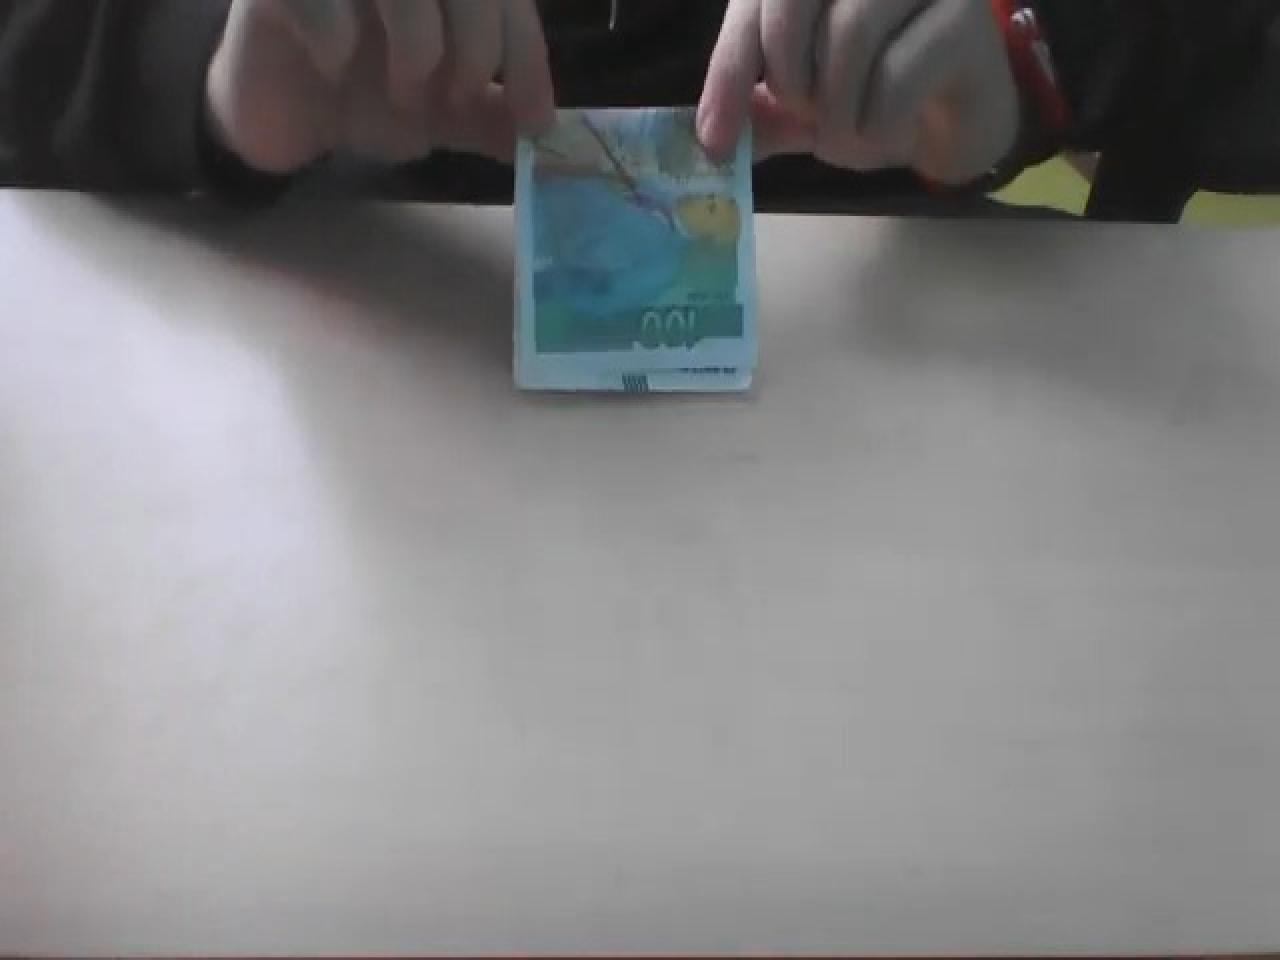100leva: (510, 104, 762, 397)
